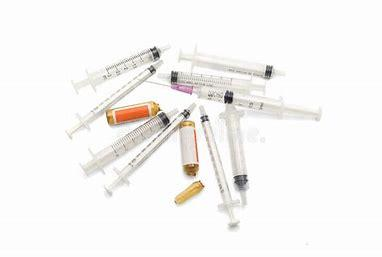Syringe: (64, 95, 190, 200), (196, 106, 246, 234), (66, 39, 174, 90), (175, 43, 294, 83)
